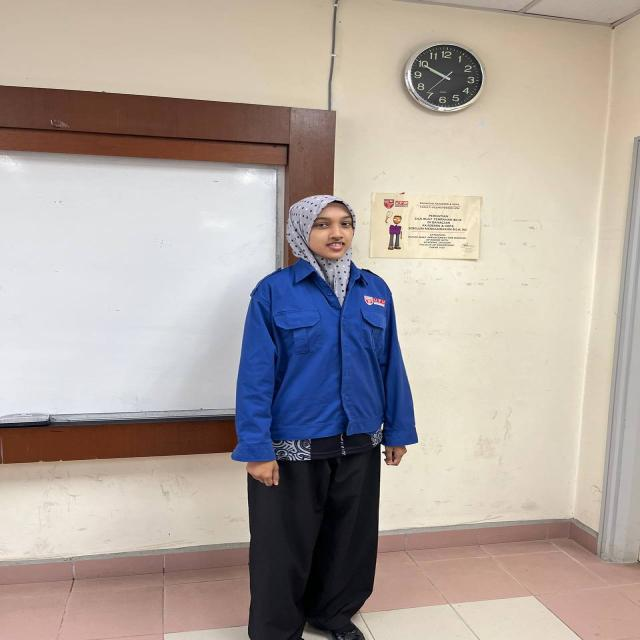person_with_labcoat: (231, 196, 418, 640)
